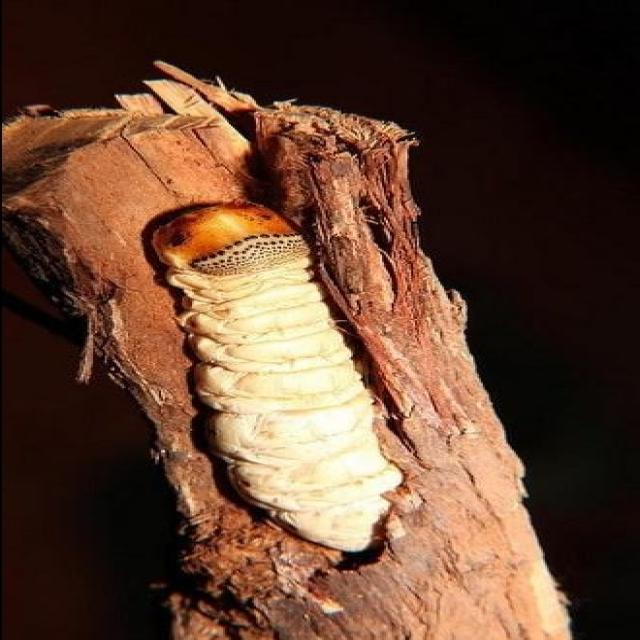grub: (147, 204, 399, 569)
